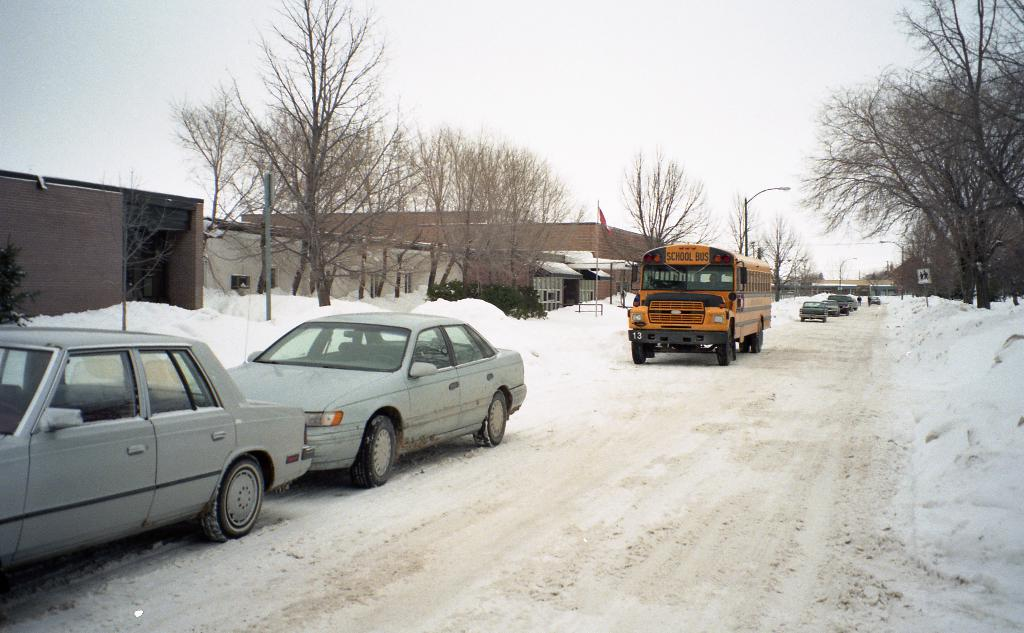Car: (0, 328, 322, 575), (222, 310, 508, 499), (797, 292, 862, 320)
